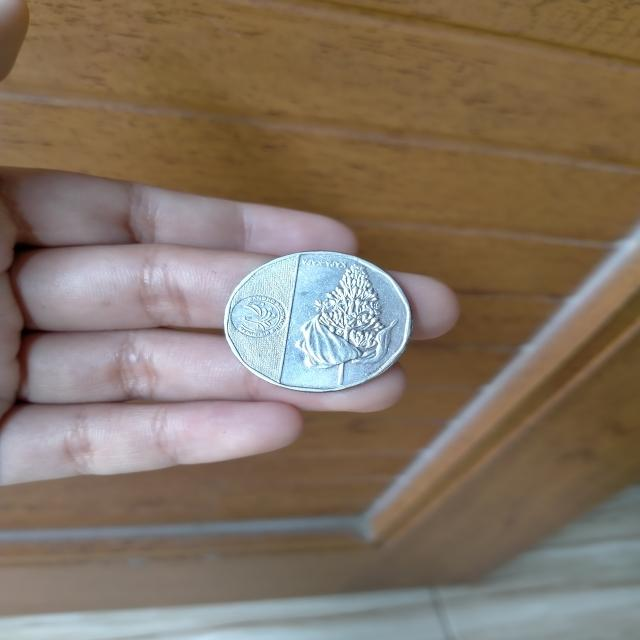10_New_Back: (294, 253, 404, 388)
